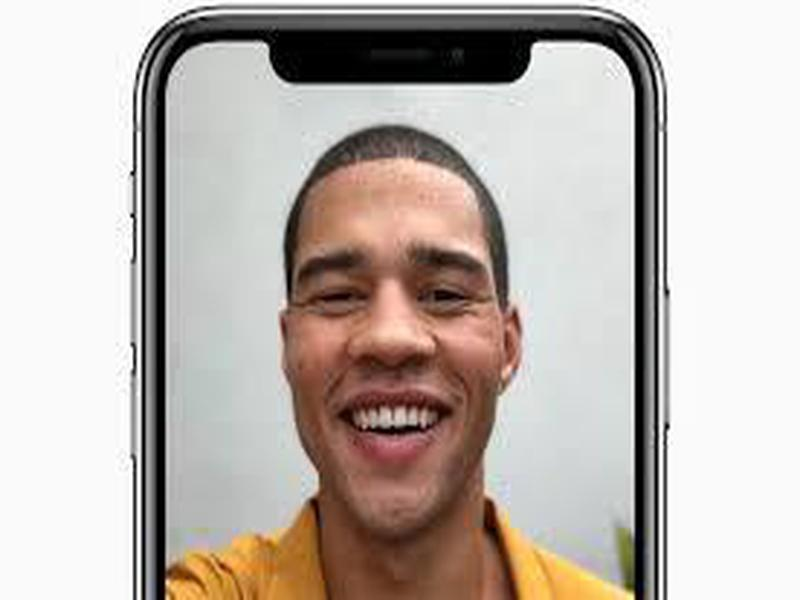without_mask: (295, 193, 497, 540)
